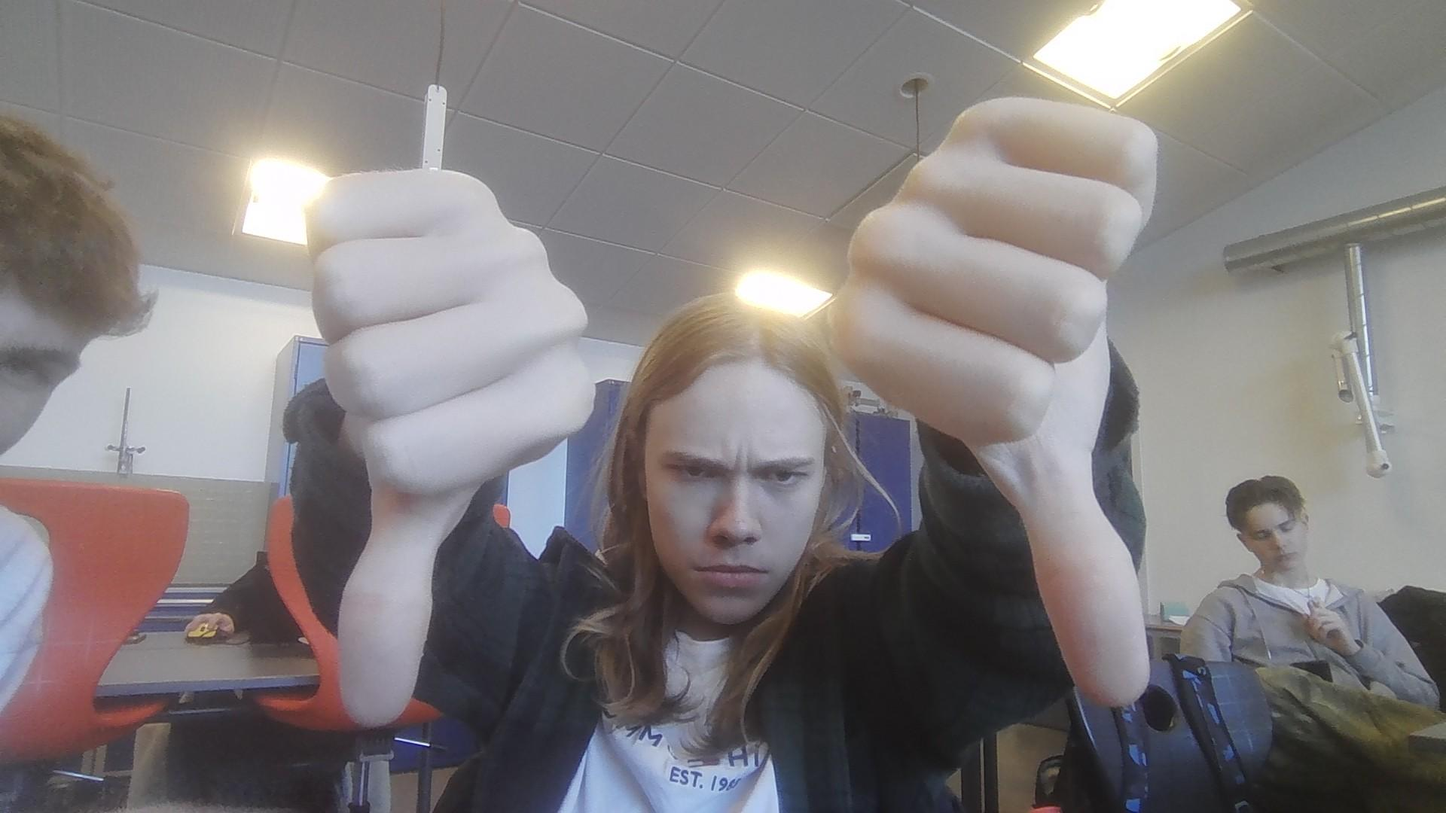thumbs down: (810, 97, 1181, 709), (306, 168, 606, 726)
